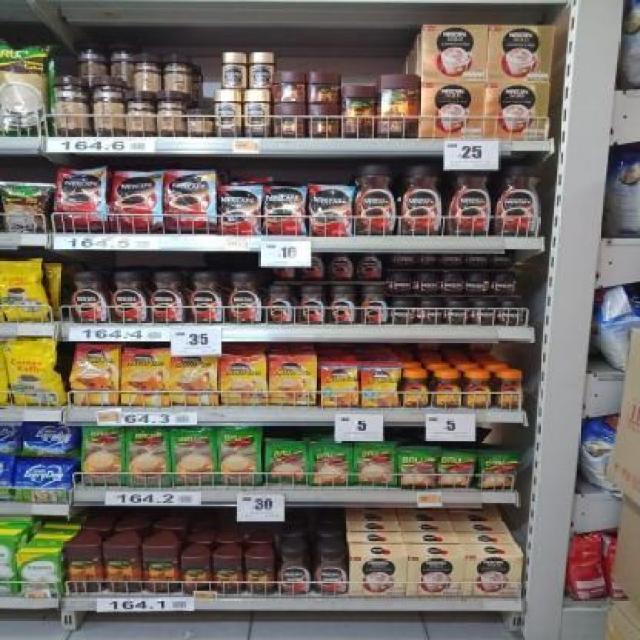Coffee: (354, 165, 400, 238), (497, 165, 544, 236), (400, 166, 446, 235), (448, 166, 494, 235), (167, 172, 217, 232), (59, 169, 106, 229), (72, 346, 118, 406), (116, 172, 162, 230), (123, 349, 168, 406), (170, 350, 216, 404), (218, 357, 266, 404), (269, 356, 315, 404), (309, 184, 350, 236), (262, 187, 306, 234), (218, 187, 260, 236), (69, 272, 108, 323), (185, 272, 224, 323), (227, 272, 264, 325), (149, 270, 185, 324), (108, 271, 146, 321), (361, 364, 397, 407), (320, 365, 357, 406), (278, 552, 314, 594), (313, 551, 348, 594), (430, 370, 463, 407), (327, 285, 358, 324), (297, 285, 328, 324), (359, 285, 390, 324), (214, 90, 240, 136), (267, 285, 296, 324), (244, 90, 268, 136), (400, 370, 428, 406), (495, 372, 524, 406), (465, 371, 492, 407), (222, 52, 246, 88), (250, 53, 272, 88), (446, 299, 472, 324), (390, 300, 416, 324), (474, 299, 498, 325), (419, 300, 443, 326), (329, 255, 354, 278), (415, 271, 440, 294), (500, 302, 526, 324), (358, 256, 382, 279), (390, 271, 413, 294), (467, 273, 490, 296), (495, 273, 518, 294), (442, 273, 464, 293), (391, 254, 415, 268), (490, 253, 512, 267), (464, 254, 486, 268), (417, 253, 438, 267), (441, 253, 462, 267)
